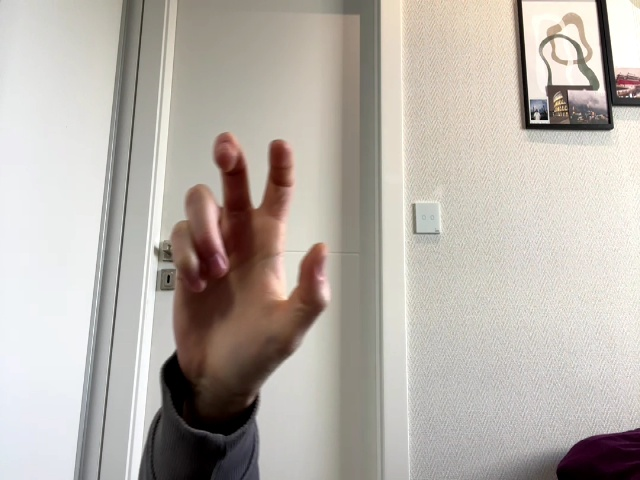CH: (172, 132, 331, 390)
